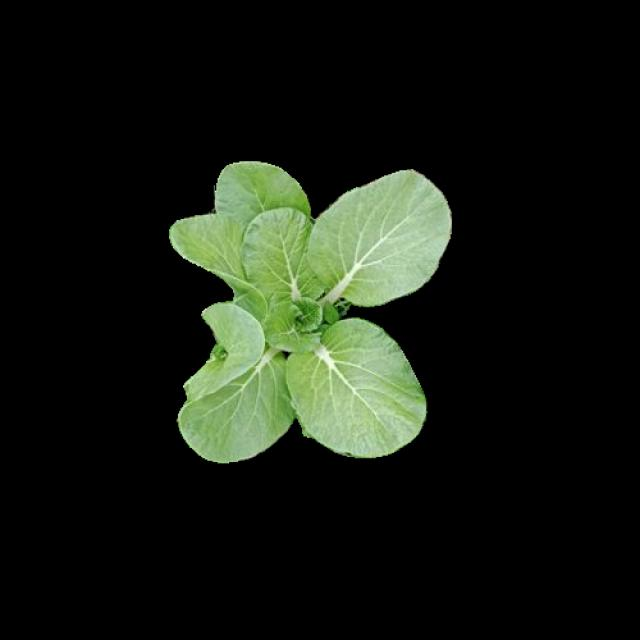healthy: (166, 159, 447, 458)
not-mature: (169, 161, 449, 461)
